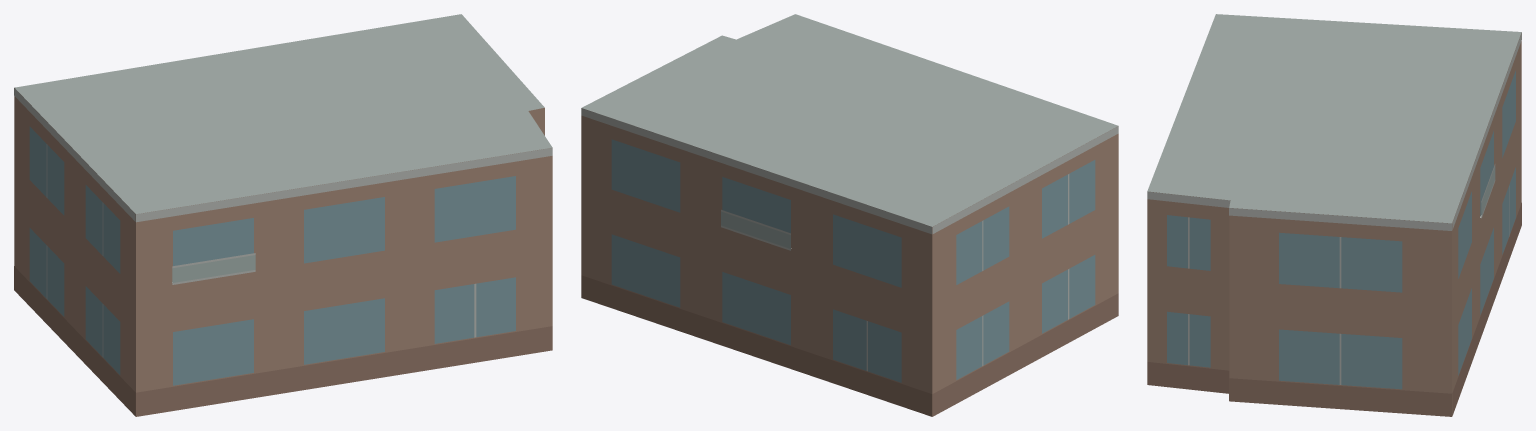
File: survey-upis-33029328.glb
3 renders of one model, left to right at view 1: azimuth 30°, elevation 25°; view 2: azimuth 150°, elevation 25°; view 3: azimuth 270°, elevation 25°, orthographic. The views are drawn at different scales.
Parts seen in each view (by area): view 1: survey-upis-33029328.tmp; view 2: survey-upis-33029328.tmp; view 3: survey-upis-33029328.tmp.
Part boxes in pixels (x1,y1,x2,y2): survey-upis-33029328.tmp: (14, 14, 552, 416); survey-upis-33029328.tmp: (581, 14, 1118, 416); survey-upis-33029328.tmp: (1147, 14, 1521, 416).
Size of the model in its own units: 14.17 by 6.1 by 10.71.
